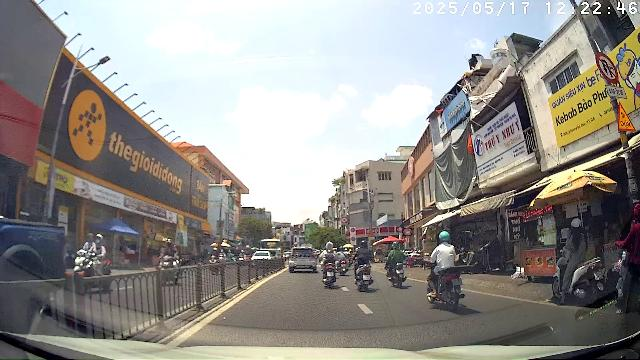124b-cam-oto-quay-dau-xe: (596, 51, 619, 84)
